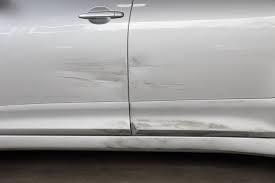RunningBoard-Dent: (2, 126, 185, 153)
doorouter-dent: (127, 1, 274, 136), (2, 0, 129, 135)
